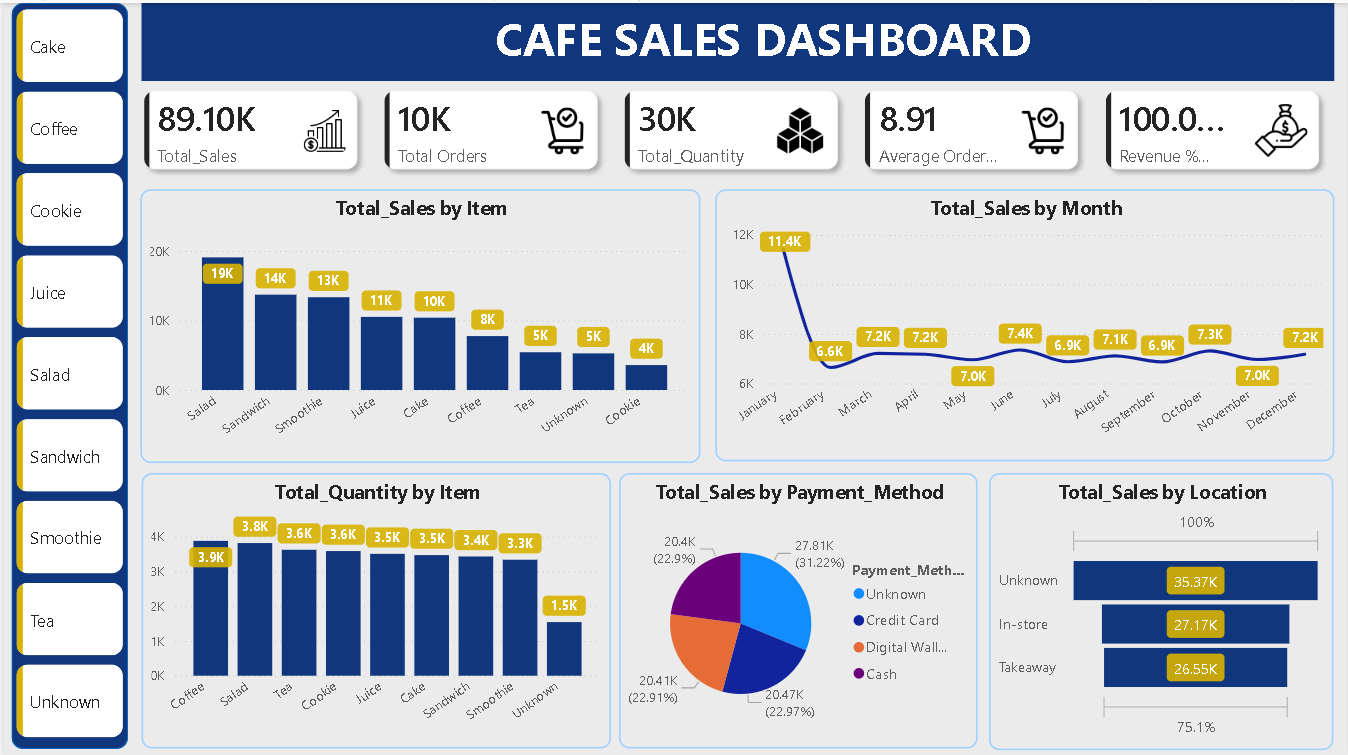

This screenshot's page, from the dashboard's own definition file:
{"tool":"powerbi","page":{"name":"CafeSalesDashboard","canvas":[1280,720],"ordinal":0},"visuals":[{"type":"cardVisual","fields":{"Data":["DAX.Total_Sales","DAX.Total Orders","DAX.Total_Quantity","DAX.Average Order Value","DAX.Revenue % Contribution"]},"box":[118.7,69.5,1148.2,103.1],"z":0},{"type":"columnChart","fields":{"Category":["Cafe Sales.Item"],"Y":["DAX.Total_Sales"]},"box":[130.3,177.3,533.2,260.6],"z":1000},{"type":"lineChart","fields":{"Category":["Cafe Sales.Transaction_Date.Variation.Date Hierarchy.Month"],"Y":["DAX.Total_Sales"]},"box":[676.8,177.3,589.9,259.4],"z":2000},{"type":"pieChart","fields":{"Category":["Cafe Sales.Payment_Method"],"Y":["DAX.Total_Sales"]},"box":[586.1,447,341.6,262.5],"z":3000},{"type":"funnel","fields":{"Category":["Cafe Sales.Location"],"Y":["DAX.Total_Sales"]},"box":[938.4,447,328.4,263.7],"z":4000},{"type":"columnChart","fields":{"Category":["Cafe Sales.Item"],"Y":["DAX.Total_Quantity"]},"box":[130.6,447,447,262.5],"z":5000},{"type":"shape","box":[7.2,0,111,710.6],"z":6000},{"type":"advancedSlicerVisual","fields":{"Values":["Cafe Sales.Item"]},"box":[7.2,1.2,111.5,709.5],"z":7000},{"type":"shape","box":[130.6,0,1136.2,74.3],"z":8000},{"type":"textbox","box":[463.3,0,540.5,74.8],"z":9000}]}

Visuals, with their boxes in screenshot pixels (x1, y1, x2, y2), scaled from the page's 1280x720 canvas onto the 1348x755 screenshot:
cardVisual - DAX.Total_Sales x DAX.Total Orders: 125:73:1334:181
columnChart - Cafe Sales.Item x DAX.Total_Sales: 137:186:699:459
lineChart - Cafe Sales.Transaction_Date.Variation.Date Hierarchy.Month x DAX.Total_Sales: 713:186:1334:458
pieChart - Cafe Sales.Payment_Method x DAX.Total_Sales: 617:469:977:744
funnel - Cafe Sales.Location x DAX.Total_Sales: 988:469:1334:745
columnChart - Cafe Sales.Item x DAX.Total_Quantity: 138:469:608:744
shape: 8:0:124:745
advancedSlicerVisual - Cafe Sales.Item: 8:1:125:745
shape: 138:0:1334:78
textbox: 488:0:1057:78
